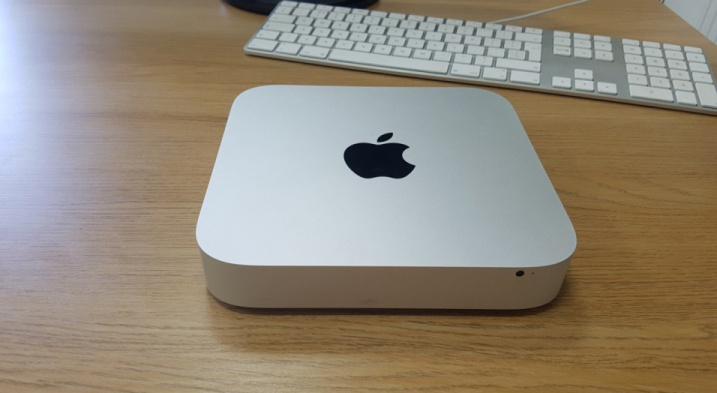apple: (341, 130, 456, 197)
